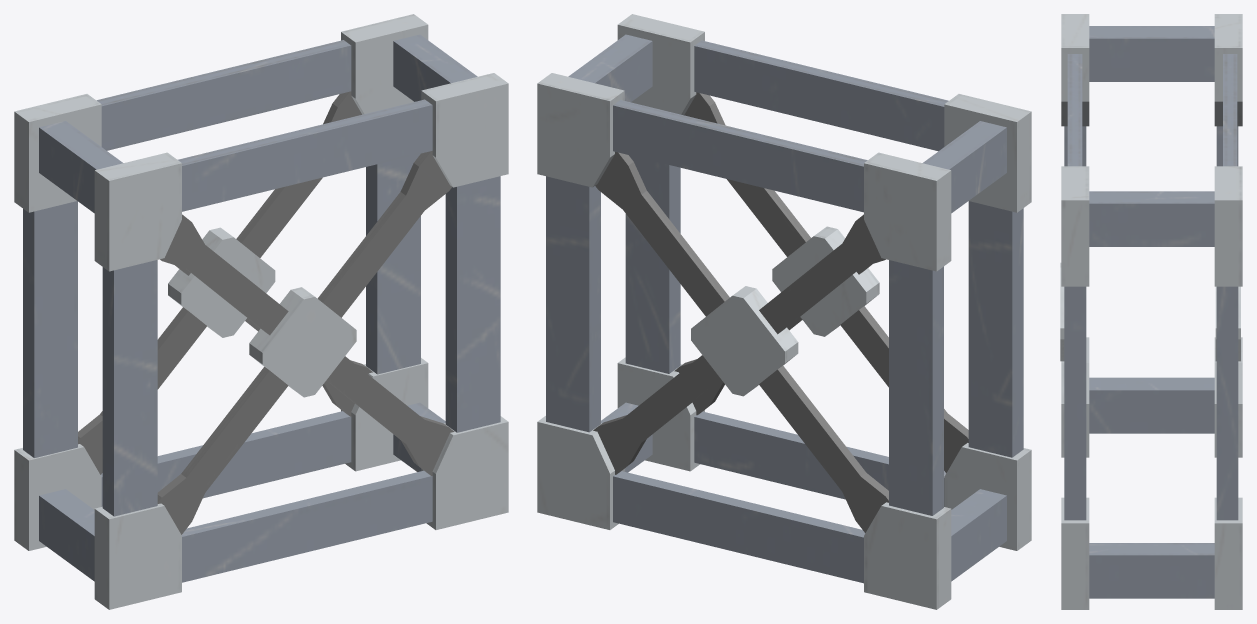
File: Pfb_Soda_ExhaustSystem1__3.fbx
The picture shows the model from 3 angles, left to right: view 1: azimuth 30°, elevation 25°; view 2: azimuth 150°, elevation 25°; view 3: azimuth 270°, elevation 25°; orthographic projection. The views are drawn at different scales.
Parts seen in each view (by area): view 1: MAT_Soda_Pipe 1; view 2: MAT_Soda_Pipe 1; view 3: MAT_Soda_Pipe 1.
Part boxes in pixels (x1,y1,x2,y2): MAT_Soda_Pipe 1: (14, 14, 508, 609); MAT_Soda_Pipe 1: (537, 14, 1031, 609); MAT_Soda_Pipe 1: (1060, 14, 1242, 609).
Bounding box in the file's own units: 1.28 × 1.31 × 0.529.
1 material, 1 textured.
